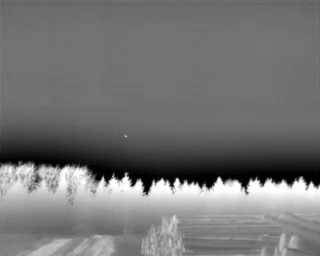AIRPLANE: (123, 132, 129, 140)
